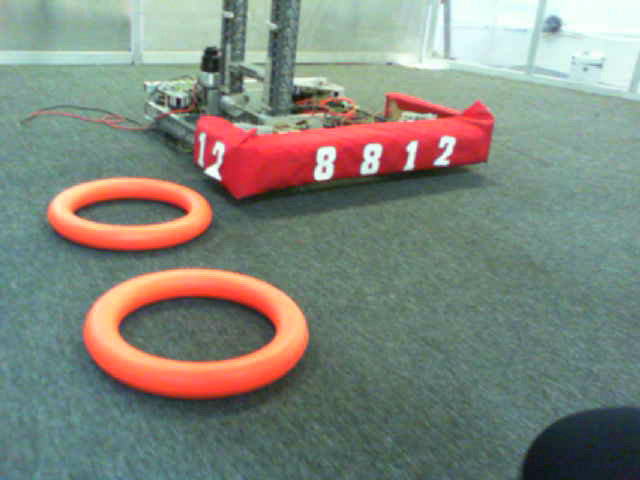Note: (84, 272, 314, 399), (52, 181, 215, 253)
Robot: (152, 3, 500, 196)
